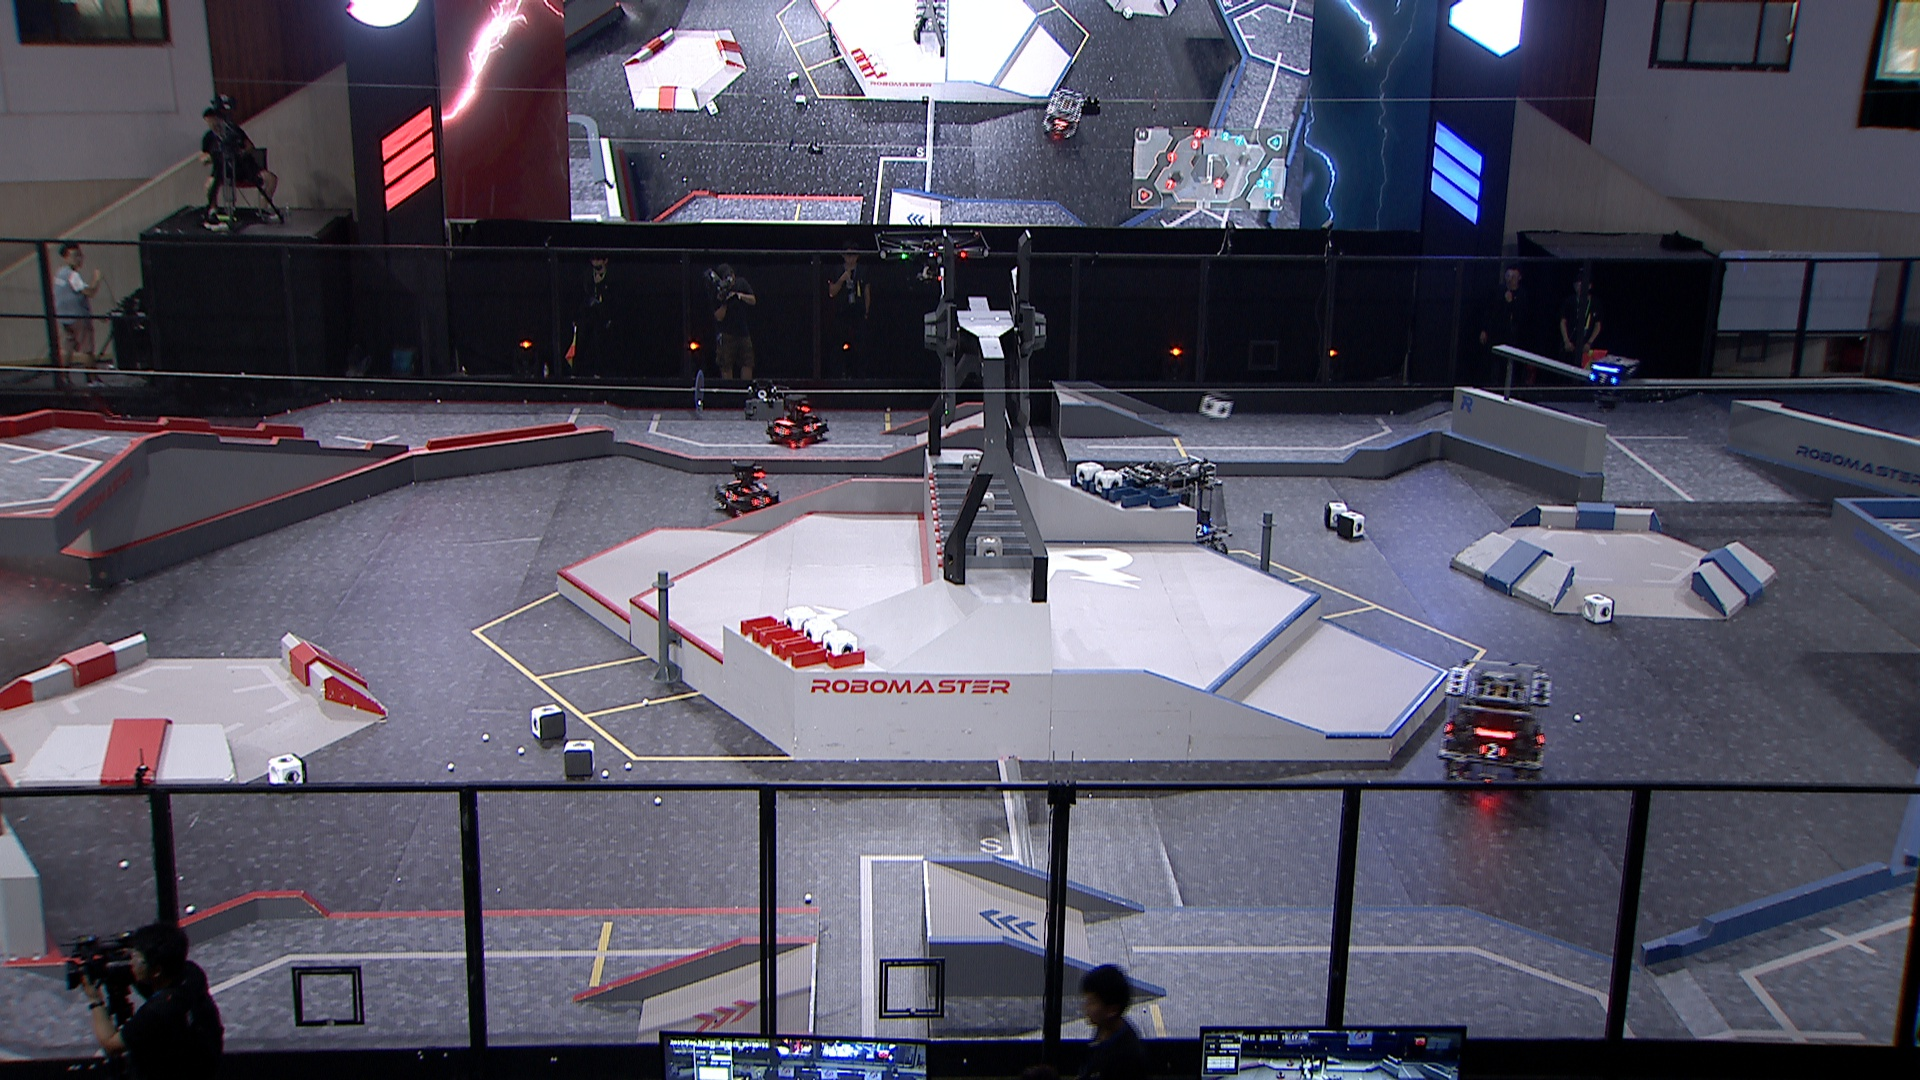armor: (1476, 742, 1509, 761), (1590, 371, 1618, 386), (741, 481, 769, 495), (752, 496, 774, 510), (1193, 524, 1211, 541), (802, 422, 820, 434), (773, 425, 790, 436), (724, 491, 738, 504)
car: (1437, 659, 1556, 785), (1122, 455, 1238, 559), (717, 460, 782, 518), (764, 394, 828, 450)
ignore: (1040, 88, 1083, 140)
watcher: (1589, 356, 1638, 414)
